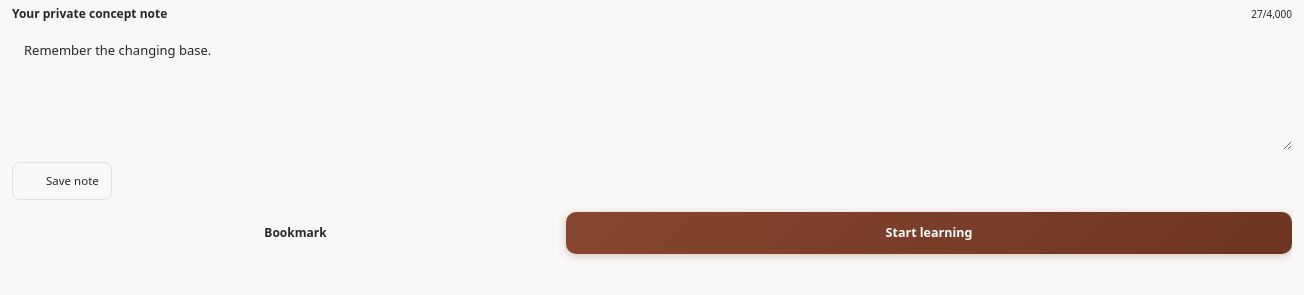
Scenario: restores a scoped note and retains it after a failed save
This screenshot has width=1304, height=295.
expect the text box labelled "Your private concept note" holds "Remember the changing base.": met, box [12,30,1292,150]
Click the button "Save note" at {"x": 62, "y": 181}, box [12,162,112,200]
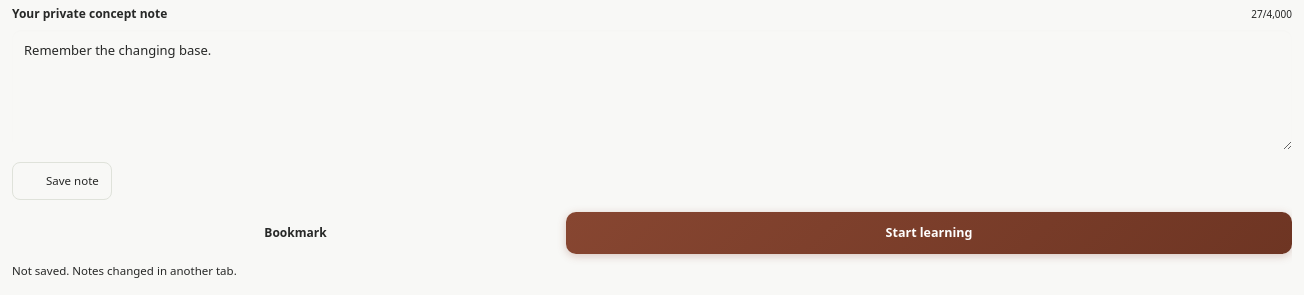
expect the message shows "Not saved": met, box [12,263,237,278]
